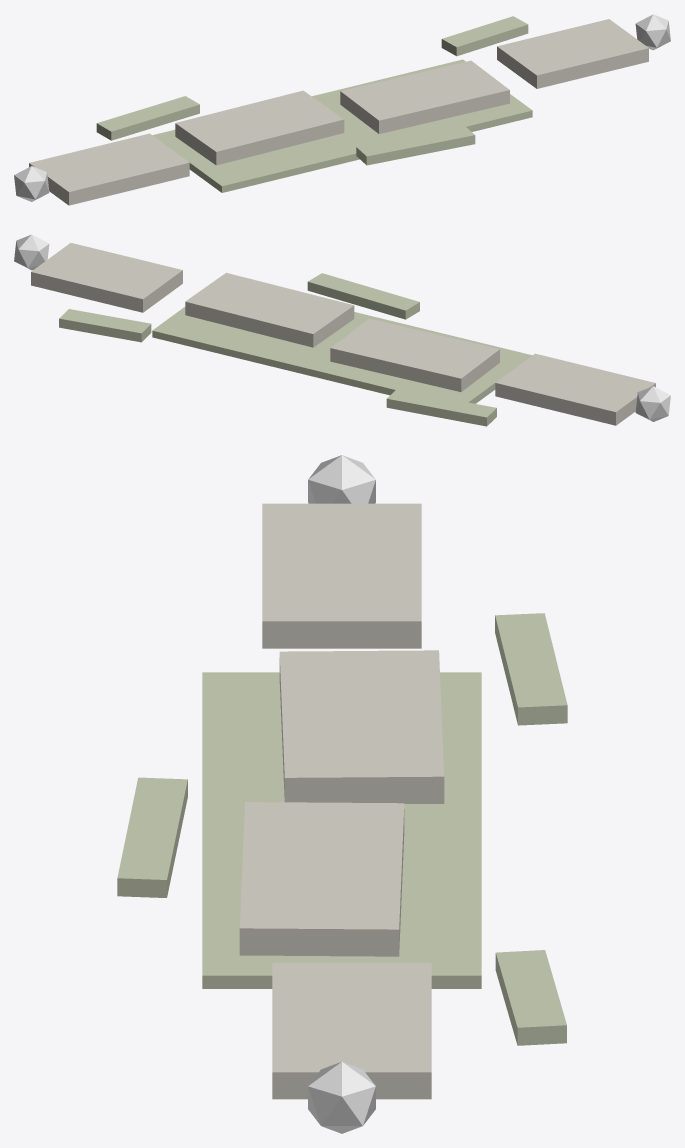
Rendered from COASTAL_GRAVEL_PATH_001_LOD_CLOSE.glb.
3 renders of one model, top to bottom at view 1: azimuth 30°, elevation 25°; view 2: azimuth 150°, elevation 25°; view 3: azimuth 270°, elevation 25°, orthographic. The views are drawn at different scales.
Parts seen in each view (by area): view 1: COASTAL_GRAVEL_PATH_001_LOD_CLOSE_GROUND_SOCKET, COASTAL_GRAVEL_PATH_001_LOD_CLOSE_STRAIGHT_B, COASTAL_GRAVEL_PATH_001_LOD_CLOSE_STRAIGHT_C, COASTAL_GRAVEL_PATH_001_LOD_CLOSE_STRAIGHT_A, COASTAL_GRAVEL_PATH_001_LOD_CLOSE_STRAIGHT_D, COASTAL_GRAVEL_PATH_001_LOD_CLOSE_EDGE_RIGHT_A, COASTAL_GRAVEL_PATH_001_LOD_CLOSE_EDGE_LEFT_A, COASTAL_GRAVEL_PATH_001_LOD_CLOSE_EDGE_LEFT_B, COASTAL_GRAVEL_PATH_001_LOD_CLOSE_SNAP_IN, COASTAL_GRAVEL_PATH_001_LOD_CLOSE_SNAP_OUT; view 2: COASTAL_GRAVEL_PATH_001_LOD_CLOSE_GROUND_SOCKET, COASTAL_GRAVEL_PATH_001_LOD_CLOSE_STRAIGHT_C, COASTAL_GRAVEL_PATH_001_LOD_CLOSE_STRAIGHT_B, COASTAL_GRAVEL_PATH_001_LOD_CLOSE_STRAIGHT_A, COASTAL_GRAVEL_PATH_001_LOD_CLOSE_STRAIGHT_D, COASTAL_GRAVEL_PATH_001_LOD_CLOSE_EDGE_RIGHT_A, COASTAL_GRAVEL_PATH_001_LOD_CLOSE_EDGE_LEFT_A, COASTAL_GRAVEL_PATH_001_LOD_CLOSE_EDGE_LEFT_B, COASTAL_GRAVEL_PATH_001_LOD_CLOSE_SNAP_IN, COASTAL_GRAVEL_PATH_001_LOD_CLOSE_SNAP_OUT; view 3: COASTAL_GRAVEL_PATH_001_LOD_CLOSE_GROUND_SOCKET, COASTAL_GRAVEL_PATH_001_LOD_CLOSE_STRAIGHT_C, COASTAL_GRAVEL_PATH_001_LOD_CLOSE_STRAIGHT_B, COASTAL_GRAVEL_PATH_001_LOD_CLOSE_STRAIGHT_A, COASTAL_GRAVEL_PATH_001_LOD_CLOSE_STRAIGHT_D, COASTAL_GRAVEL_PATH_001_LOD_CLOSE_EDGE_RIGHT_A, COASTAL_GRAVEL_PATH_001_LOD_CLOSE_EDGE_LEFT_A, COASTAL_GRAVEL_PATH_001_LOD_CLOSE_EDGE_LEFT_B, COASTAL_GRAVEL_PATH_001_LOD_CLOSE_SNAP_OUT, COASTAL_GRAVEL_PATH_001_LOD_CLOSE_SNAP_IN.
Part boxes in pixels (left/top/right/bottom): COASTAL_GRAVEL_PATH_001_LOD_CLOSE_GROUND_SOCKET: left=152, top=59, right=532, bottom=192; COASTAL_GRAVEL_PATH_001_LOD_CLOSE_STRAIGHT_B: left=175, top=90, right=344, bottom=165; COASTAL_GRAVEL_PATH_001_LOD_CLOSE_STRAIGHT_C: left=340, top=60, right=509, bottom=133; COASTAL_GRAVEL_PATH_001_LOD_CLOSE_STRAIGHT_A: left=29, top=133, right=189, bottom=205; COASTAL_GRAVEL_PATH_001_LOD_CLOSE_STRAIGHT_D: left=497, top=19, right=648, bottom=88; COASTAL_GRAVEL_PATH_001_LOD_CLOSE_EDGE_RIGHT_A: left=356, top=125, right=475, bottom=165; COASTAL_GRAVEL_PATH_001_LOD_CLOSE_EDGE_LEFT_A: left=96, top=96, right=199, bottom=140; COASTAL_GRAVEL_PATH_001_LOD_CLOSE_EDGE_LEFT_B: left=441, top=16, right=528, bottom=56; COASTAL_GRAVEL_PATH_001_LOD_CLOSE_SNAP_IN: left=14, top=166, right=49, bottom=201; COASTAL_GRAVEL_PATH_001_LOD_CLOSE_SNAP_OUT: left=635, top=14, right=670, bottom=50; COASTAL_GRAVEL_PATH_001_LOD_CLOSE_GROUND_SOCKET: left=152, top=307, right=531, bottom=403; COASTAL_GRAVEL_PATH_001_LOD_CLOSE_STRAIGHT_C: left=185, top=272, right=354, bottom=347; COASTAL_GRAVEL_PATH_001_LOD_CLOSE_STRAIGHT_B: left=330, top=318, right=499, bottom=391; COASTAL_GRAVEL_PATH_001_LOD_CLOSE_STRAIGHT_A: left=495, top=353, right=655, bottom=425; COASTAL_GRAVEL_PATH_001_LOD_CLOSE_STRAIGHT_D: left=31, top=243, right=182, bottom=312; COASTAL_GRAVEL_PATH_001_LOD_CLOSE_EDGE_RIGHT_A: left=307, top=273, right=419, bottom=319; COASTAL_GRAVEL_PATH_001_LOD_CLOSE_EDGE_LEFT_A: left=386, top=389, right=496, bottom=426; COASTAL_GRAVEL_PATH_001_LOD_CLOSE_EDGE_LEFT_B: left=59, top=309, right=151, bottom=342; COASTAL_GRAVEL_PATH_001_LOD_CLOSE_SNAP_IN: left=635, top=386, right=670, bottom=421; COASTAL_GRAVEL_PATH_001_LOD_CLOSE_SNAP_OUT: left=14, top=234, right=49, bottom=270; COASTAL_GRAVEL_PATH_001_LOD_CLOSE_GROUND_SOCKET: left=202, top=672, right=481, bottom=988; COASTAL_GRAVEL_PATH_001_LOD_CLOSE_STRAIGHT_C: left=239, top=802, right=404, bottom=956; COASTAL_GRAVEL_PATH_001_LOD_CLOSE_STRAIGHT_B: left=279, top=650, right=444, bottom=803; COASTAL_GRAVEL_PATH_001_LOD_CLOSE_STRAIGHT_A: left=262, top=503, right=421, bottom=648; COASTAL_GRAVEL_PATH_001_LOD_CLOSE_STRAIGHT_D: left=272, top=962, right=431, bottom=1099; COASTAL_GRAVEL_PATH_001_LOD_CLOSE_EDGE_RIGHT_A: left=117, top=777, right=187, bottom=897; COASTAL_GRAVEL_PATH_001_LOD_CLOSE_EDGE_LEFT_A: left=495, top=613, right=567, bottom=725; COASTAL_GRAVEL_PATH_001_LOD_CLOSE_EDGE_LEFT_B: left=495, top=950, right=566, bottom=1045; COASTAL_GRAVEL_PATH_001_LOD_CLOSE_SNAP_OUT: left=308, top=1062, right=375, bottom=1133; COASTAL_GRAVEL_PATH_001_LOD_CLOSE_SNAP_IN: left=308, top=455, right=375, bottom=503.
Bounding box in the file's own units: 1.51 × 0.1 × 0.4517.
